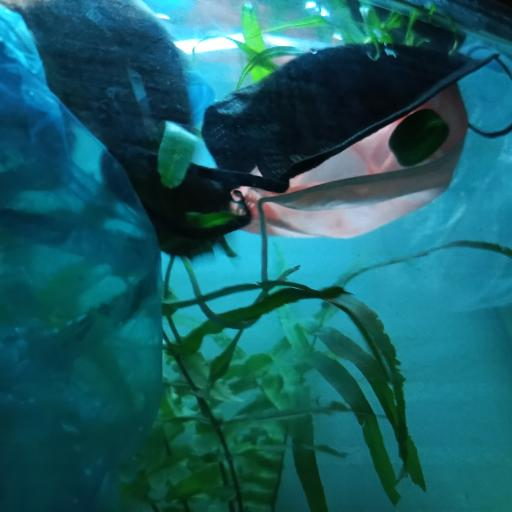bottle_cap: (388, 108, 451, 167)
mask: (174, 38, 512, 242), (230, 76, 470, 240)
plastic_bag: (0, 7, 169, 512)
plastic_straw: (361, 0, 512, 57)
